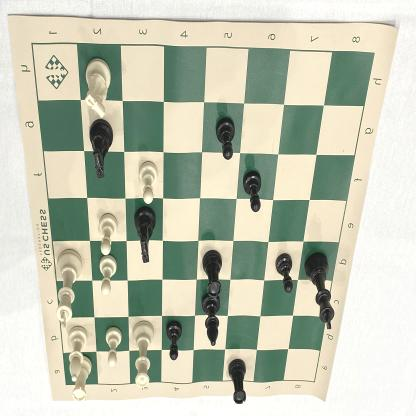black-bishop: (198, 288, 224, 352)
black-king: (303, 249, 339, 333)
black-knight: (131, 204, 161, 270), (86, 118, 116, 182)
black-pawn: (214, 115, 238, 163), (242, 167, 265, 214), (274, 251, 296, 297), (164, 319, 184, 366)
black-rook: (200, 246, 226, 298), (226, 356, 251, 410)
white-bishop: (66, 323, 92, 384)
white-king: (53, 246, 84, 331)
white-knight: (82, 54, 117, 122)
white-pawn: (137, 158, 162, 206), (95, 212, 121, 258), (102, 325, 124, 371), (96, 253, 118, 298)
white-queen: (129, 318, 157, 392)
white-rook: (69, 351, 96, 405)
